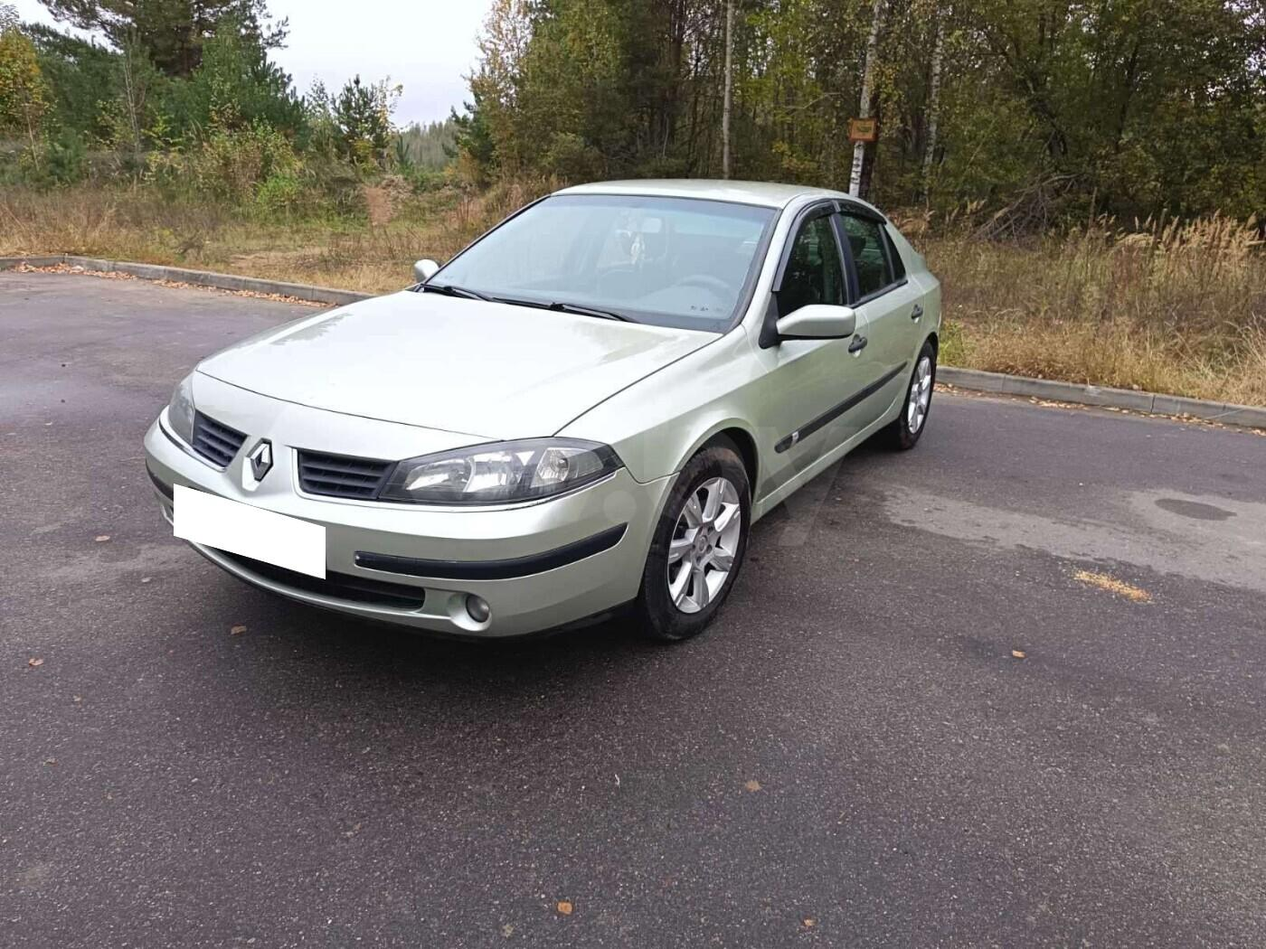Laguna_2005-2007: (138, 163, 946, 655)
